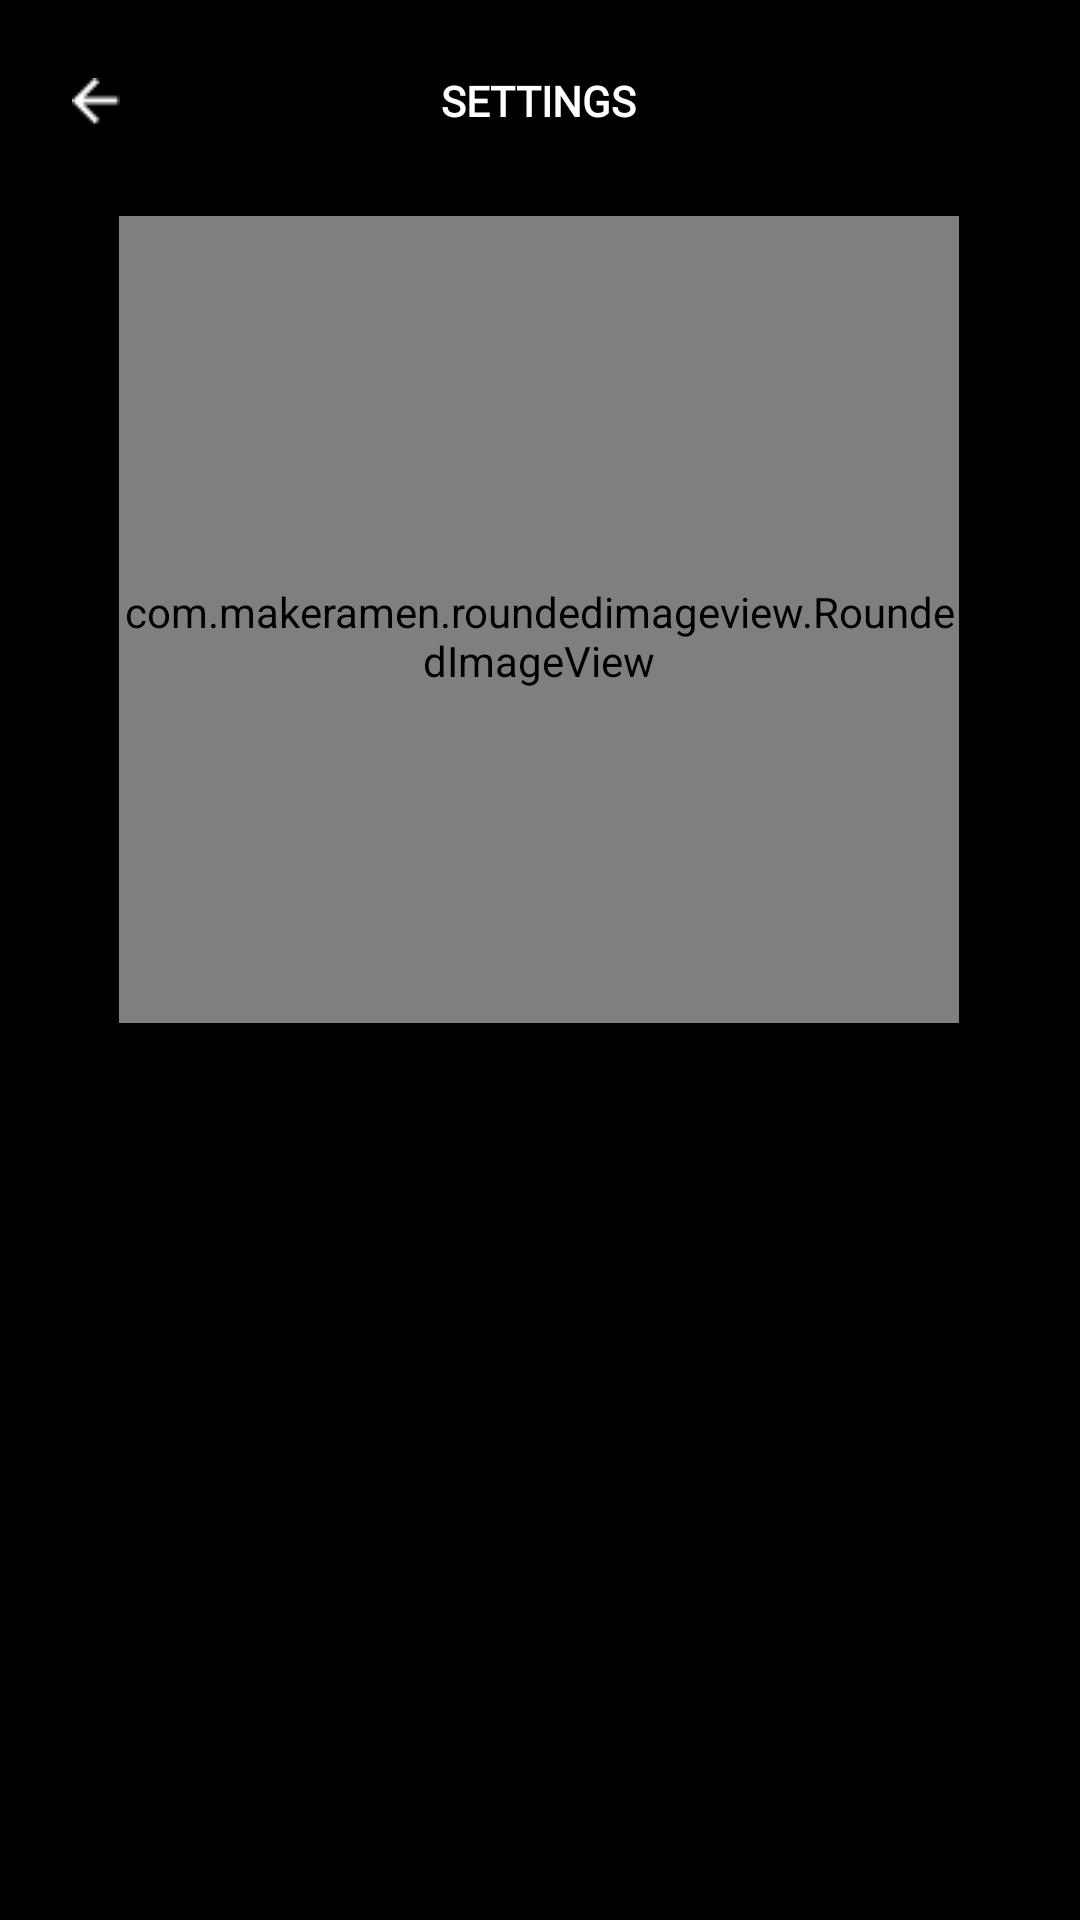

Named icons in this screenshot (1080×1920) and their bounding boxes, detection(x1, y1, x2, y2):
goback: detection(72, 78, 120, 124)
